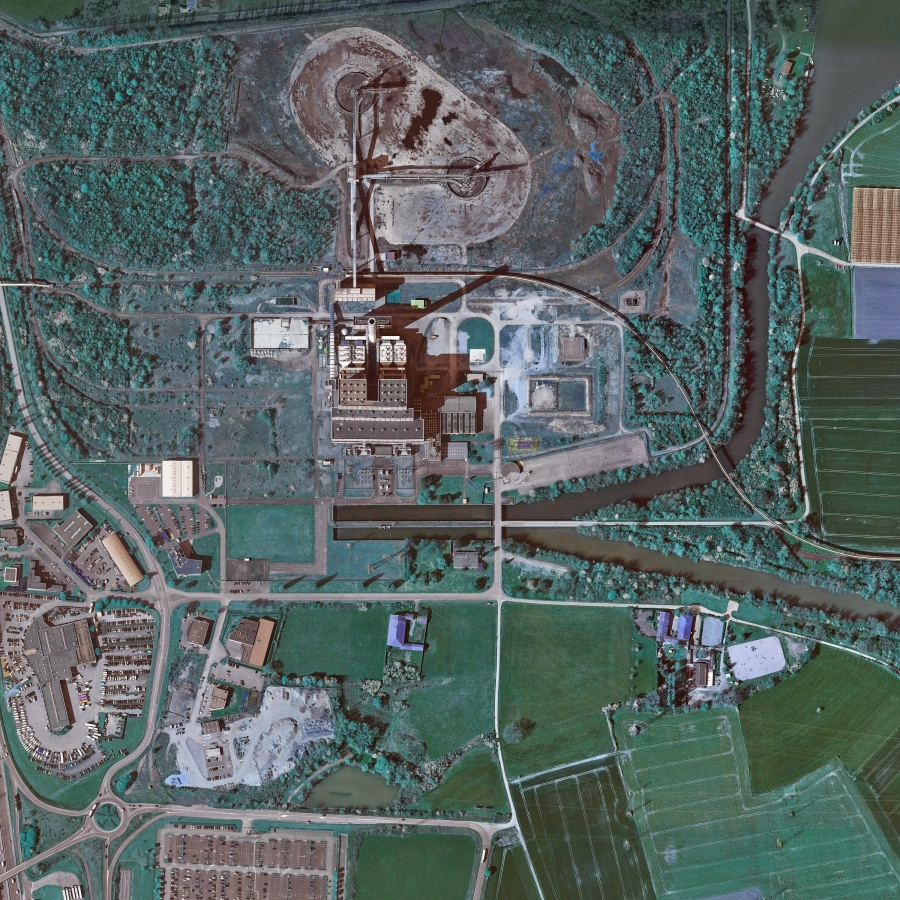PowerPlant: (257, 27, 530, 453)
